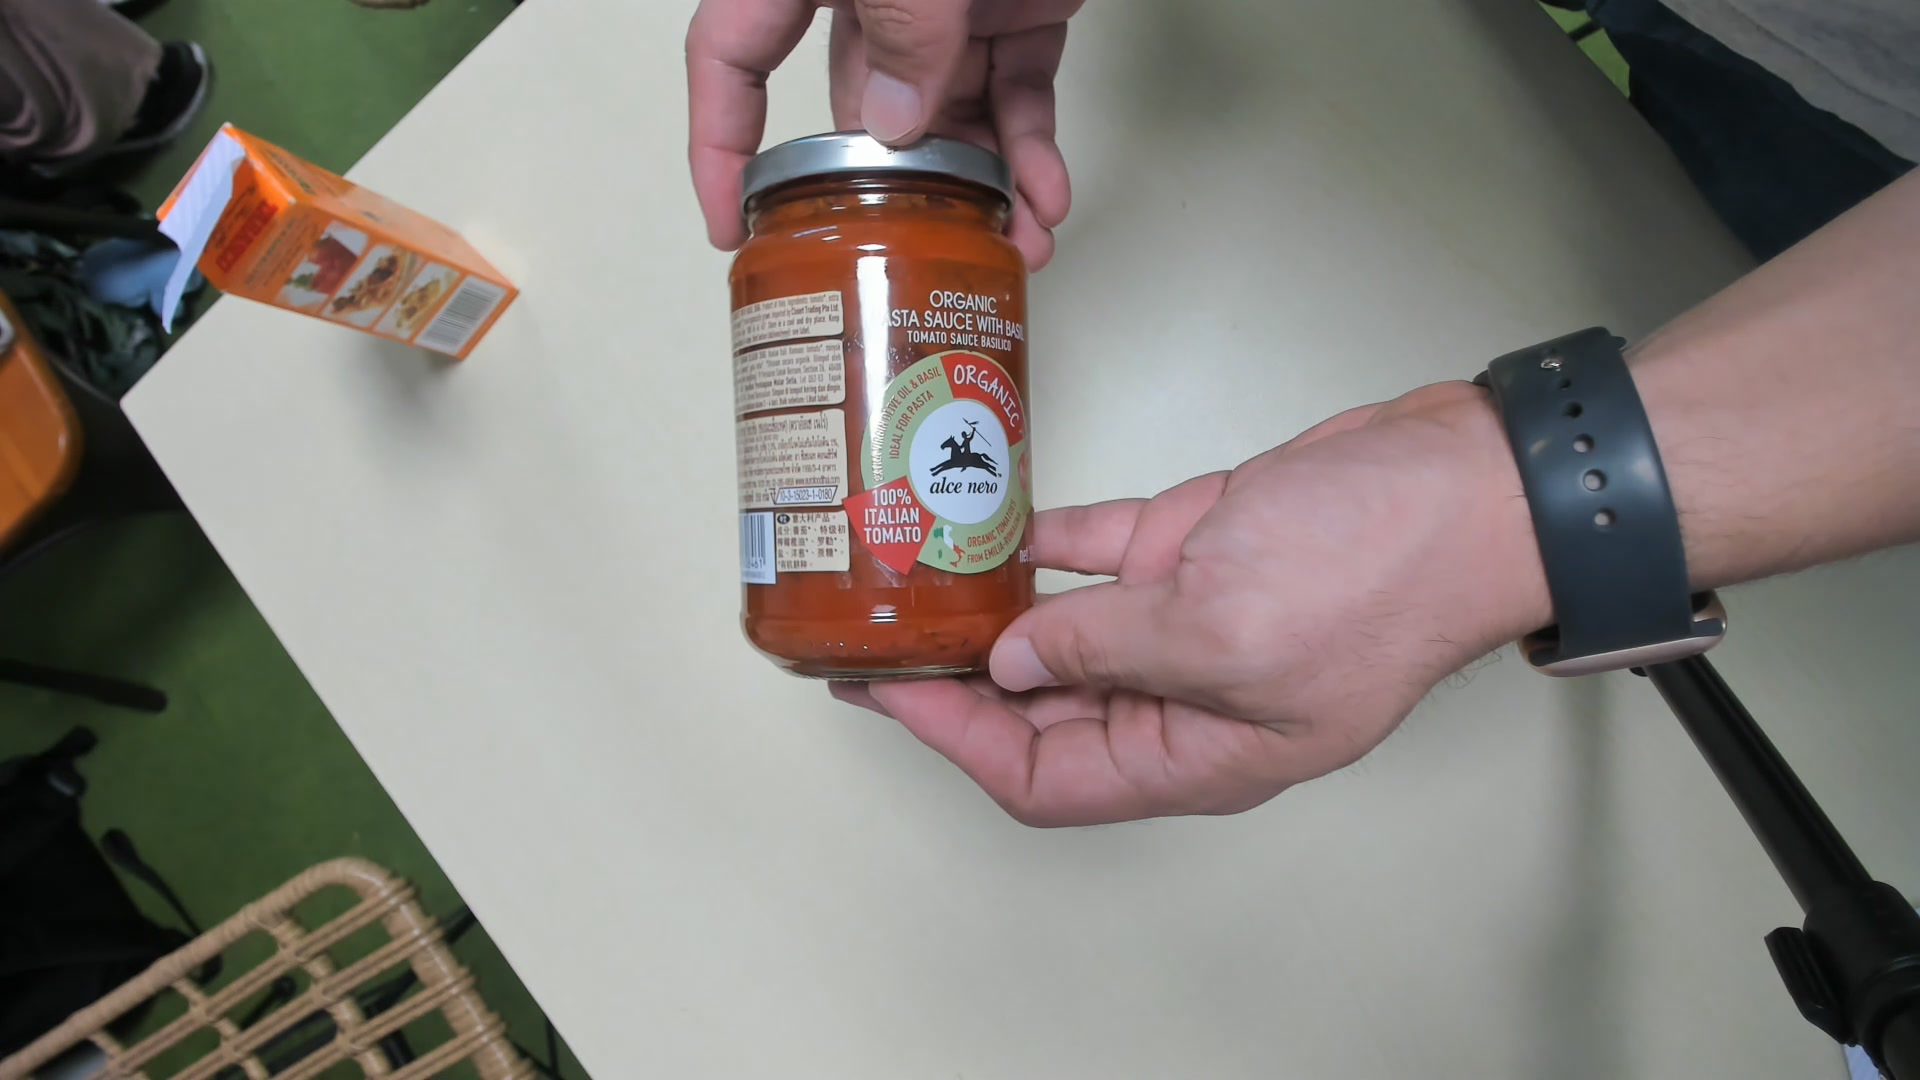PastaSauce_300-399g_NonHalal_NonHealthy: (723, 127, 1044, 687)
